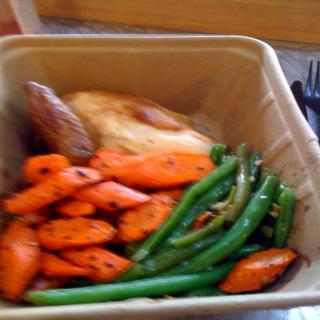Carrot: (3, 150, 218, 282), (0, 215, 40, 303), (221, 248, 295, 292)
